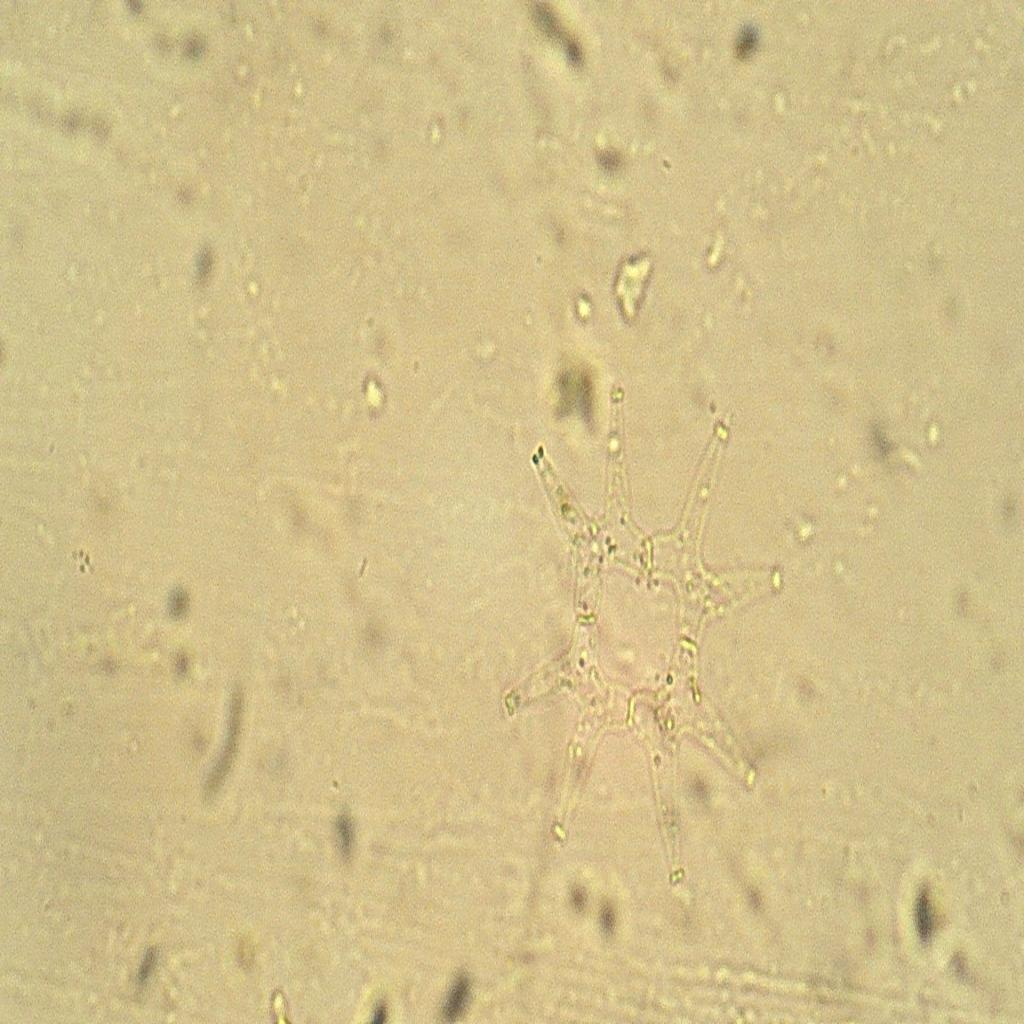Pediastrum_1F0: (470, 355, 805, 929)
